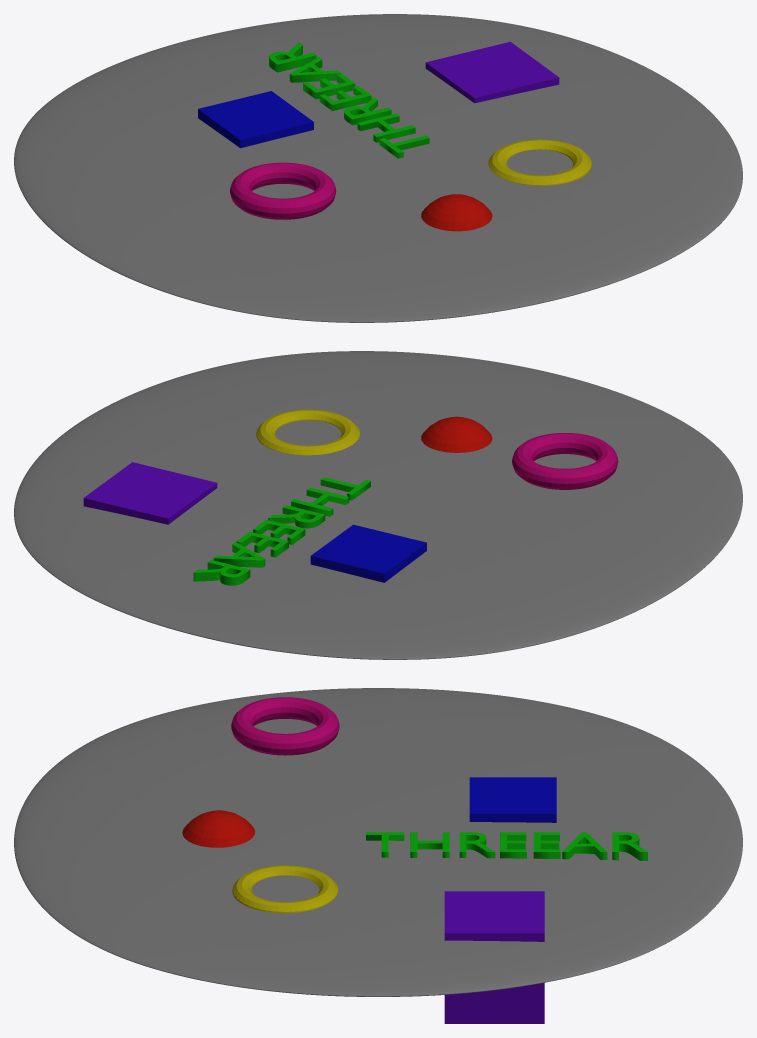
The model's file is zfighting.obj.
3 views of the same model, one above another, from view 1: azimuth 30°, elevation 25°; view 2: azimuth 150°, elevation 25°; view 3: azimuth 270°, elevation 25° (orthographic).
Visible parts, largest first — view 1: Cube, Text, Cube.002_Cube.004, Torus.001, Cube.001, Torus, Sphere; view 2: Cube, Text, Cube.002_Cube.004, Torus.001, Cube.001, Torus, Sphere; view 3: Cube, Cube.002_Cube.004, Text, Torus.001, Cube.001, Torus, Sphere.
Boxes of the visible parts, bbox=[...] form: Cube: bbox=[14, 14, 742, 322]; Text: bbox=[269, 42, 429, 158]; Cube.002_Cube.004: bbox=[425, 41, 559, 103]; Torus.001: bbox=[230, 162, 336, 219]; Cube.001: bbox=[198, 91, 313, 148]; Torus: bbox=[488, 139, 592, 185]; Sphere: bbox=[421, 194, 492, 231]; Cube: bbox=[14, 351, 742, 659]; Text: bbox=[193, 477, 370, 585]; Cube.002_Cube.004: bbox=[83, 462, 217, 524]; Torus.001: bbox=[512, 433, 618, 489]; Cube.001: bbox=[310, 524, 426, 582]; Torus: bbox=[256, 409, 359, 455]; Sphere: bbox=[421, 416, 492, 452]; Cube: bbox=[14, 688, 742, 996]; Cube.002_Cube.004: bbox=[444, 891, 544, 1023]; Text: bbox=[366, 832, 647, 860]; Torus.001: bbox=[231, 697, 339, 755]; Cube.001: bbox=[469, 777, 556, 822]; Torus: bbox=[232, 865, 338, 913]; Sphere: bbox=[182, 810, 254, 847].
Size of the model in its own units: 1.68 by 0.333 by 1.68.
